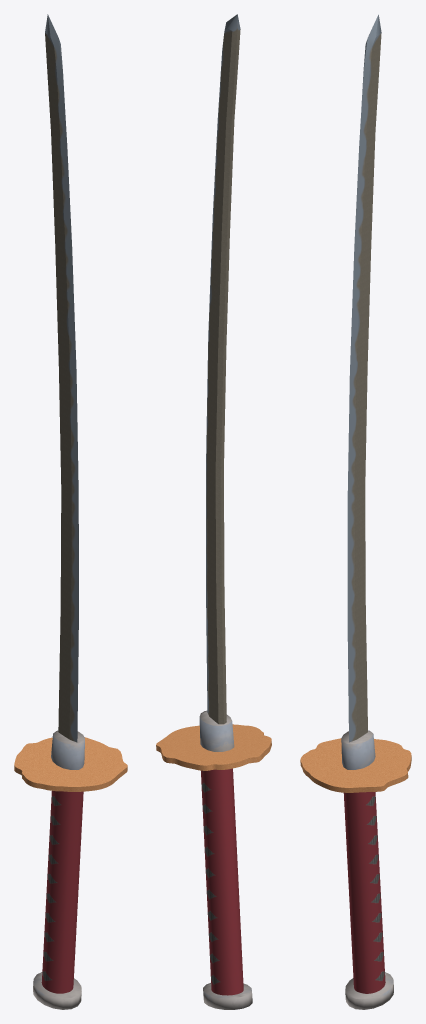
The model's file is katana.fbx.
3 views of the same model, side by side, from view 1: azimuth 30°, elevation 25°; view 2: azimuth 210°, elevation 25°; view 3: azimuth 330°, elevation 25° (orthographic).
Parts seen in each view (by area): view 1: Blade_low, Handle_low, Tsuba_low, Habaki_low, LowerFasten_low; view 2: Blade_low, Handle_low, Tsuba_low, Habaki_low, LowerFasten_low; view 3: Blade_low, Handle_low, Tsuba_low, Habaki_low, LowerFasten_low.
Part boxes in pixels (<box>): Blade_low: <box>45,14,78,742</box>; Handle_low: <box>41,791,83,993</box>; Tsuba_low: <box>14,737,127,791</box>; Habaki_low: <box>51,730,84,769</box>; LowerFasten_low: <box>33,972,81,1009</box>; Blade_low: <box>206,14,240,724</box>; Handle_low: <box>201,768,243,995</box>; Tsuba_low: <box>156,724,271,770</box>; Habaki_low: <box>199,710,234,751</box>; LowerFasten_low: <box>203,983,252,1009</box>; Blade_low: <box>347,14,381,742</box>; Handle_low: <box>343,792,385,993</box>; Tsuba_low: <box>300,738,411,792</box>; Habaki_low: <box>341,730,375,769</box>; LowerFasten_low: <box>345,972,393,1009</box>.
Size of the model in its own units: 0.1419 by 1.35 by 0.1369.
